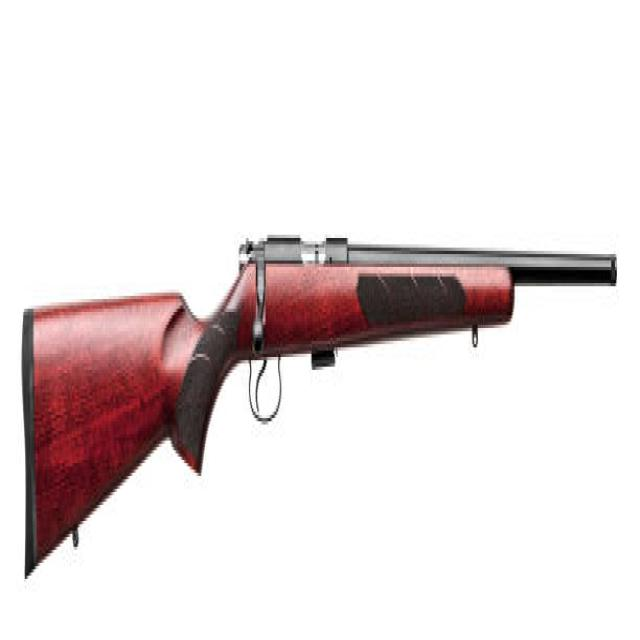rifle: (13, 204, 622, 602)
